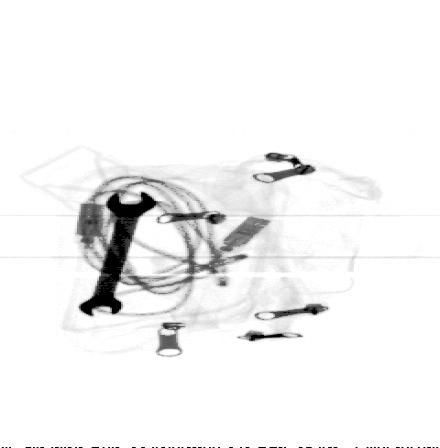Wrench: (77, 189, 159, 319)
